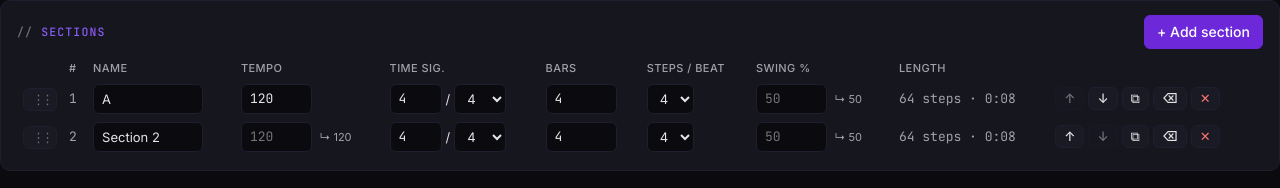
SectionsPanel › edits swing and shows the inherited value
Check: the 1st text with test id "swing-inherited" shows "50", box top-left (831, 92), bottom-right (862, 106)
Type "66" into the 1st number field with test id "section-swing" at (792, 99), box top-left (756, 84), bottom-right (827, 114)
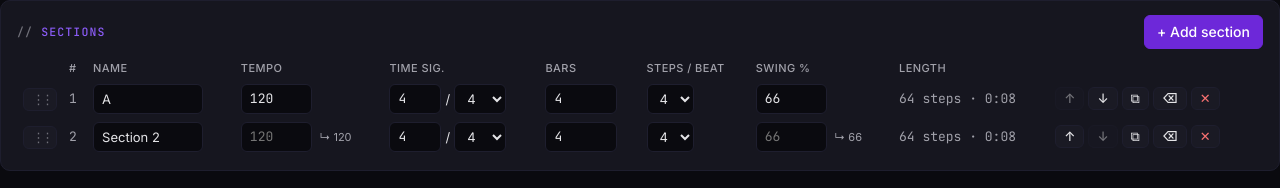
Check: the text with test id "swing-inherited" shows "66", box top-left (831, 130), bottom-right (862, 144)
Clear the 1st number field with test id "section-swing" at (792, 99), box top-left (756, 84), bottom-right (827, 114)
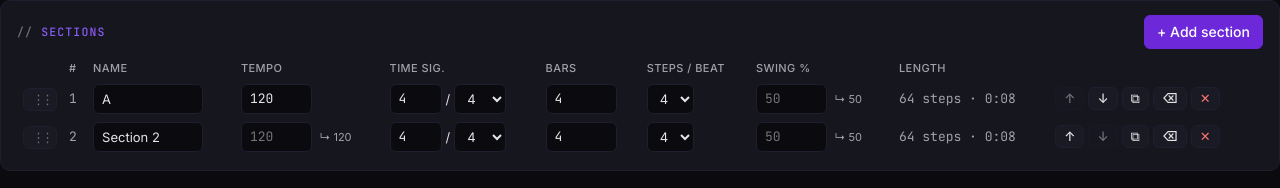
Check: the text with test id "swing-inherited" in the row of "↳ 120" shows "50", box top-left (831, 130), bottom-right (862, 144)
